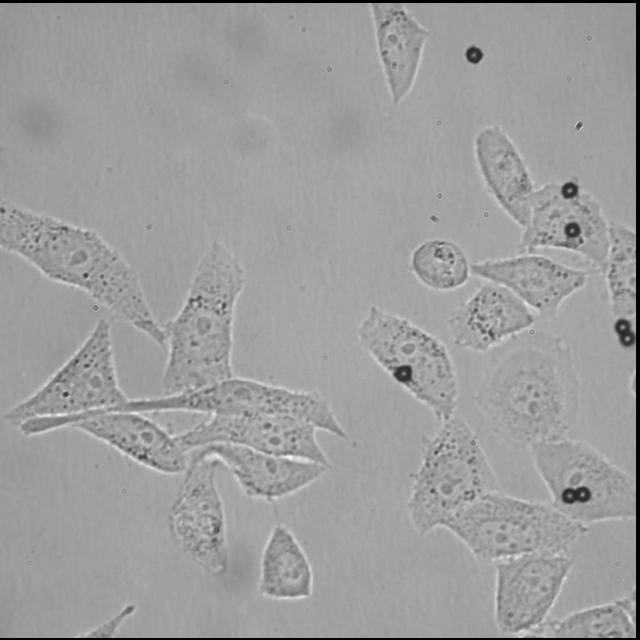microbeads: (574, 479, 596, 506), (462, 45, 486, 63), (559, 180, 581, 198), (562, 482, 578, 504), (618, 329, 634, 348), (563, 220, 579, 238), (612, 316, 630, 332), (396, 364, 410, 382)
